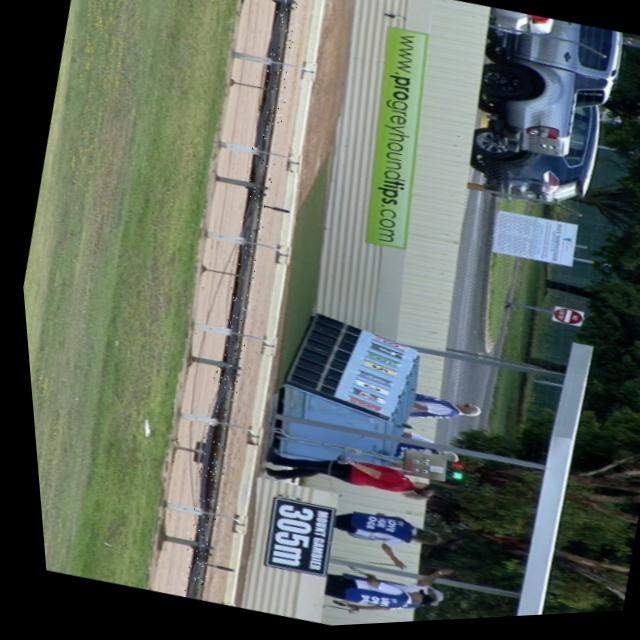rail: (174, 0, 290, 601)
